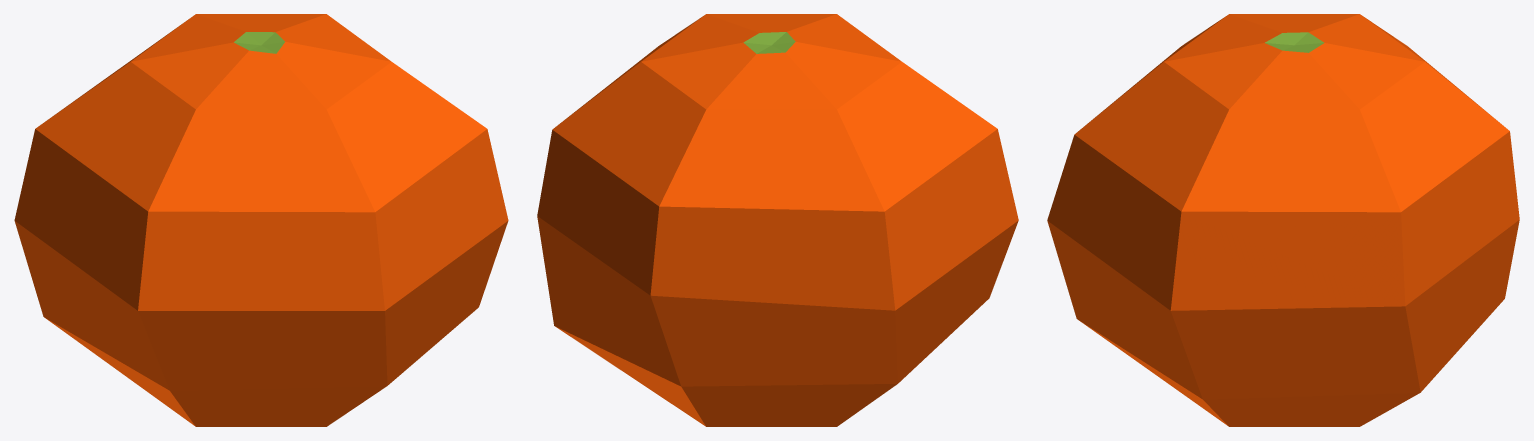
File: Orange.fbx
3 renders of one model, left to right at view 1: azimuth 30°, elevation 25°; view 2: azimuth 150°, elevation 25°; view 3: azimuth 270°, elevation 25°, orthographic.
Visible parts, largest first — view 1: Orange; view 2: Orange; view 3: Orange.
Part boxes in pixels (x1,y1,x2,y2): Orange: [14, 14, 508, 426]; Orange: [537, 14, 1018, 426]; Orange: [1047, 14, 1519, 426].
Bounding box in the file's own units: 12.15 × 10.97 × 13.43.
